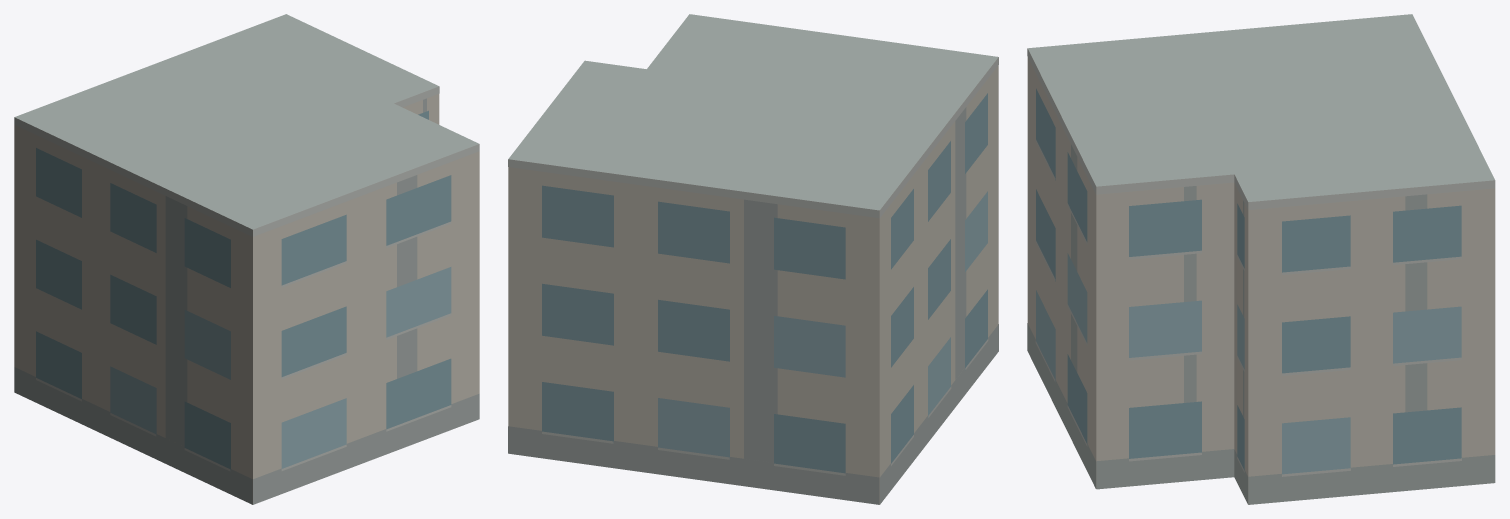
Rendered from residential-94d454bf-8540-4f95-878f-f0ddc6c679ac.glb.
3 renders of one model, left to right at view 1: azimuth 30°, elevation 25°; view 2: azimuth 150°, elevation 25°; view 3: azimuth 270°, elevation 25°, orthographic. The views are drawn at different scales.
Visible parts, largest first — view 1: residential-94d454bf-8540-4f95-878f-f0ddc6c679ac.tmp; view 2: residential-94d454bf-8540-4f95-878f-f0ddc6c679ac.tmp; view 3: residential-94d454bf-8540-4f95-878f-f0ddc6c679ac.tmp.
Part boxes in pixels (box(x1,y1,x2,y2)): residential-94d454bf-8540-4f95-878f-f0ddc6c679ac.tmp: box(14, 14, 479, 504); residential-94d454bf-8540-4f95-878f-f0ddc6c679ac.tmp: box(508, 14, 998, 504); residential-94d454bf-8540-4f95-878f-f0ddc6c679ac.tmp: box(1027, 14, 1495, 504).
Bounding box in the file's own units: 12.21 × 9.15 × 12.82.
